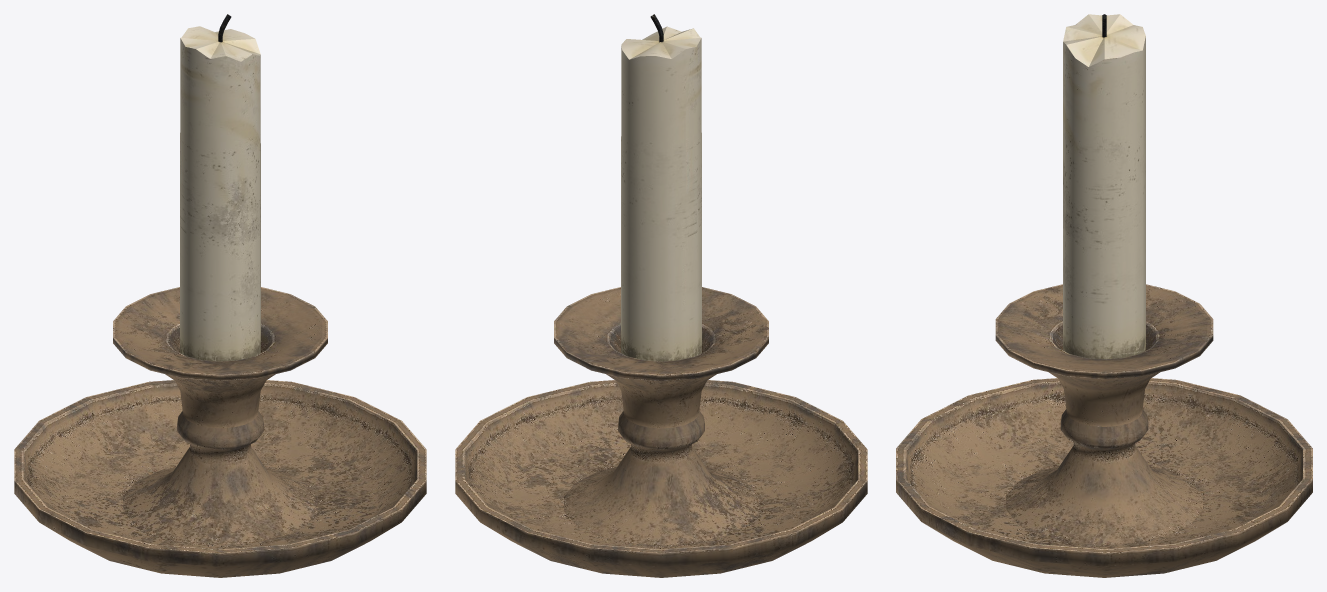
File: Candle.fbx
3 views of the same model, side by side, from view 1: azimuth 30°, elevation 25°; view 2: azimuth 150°, elevation 25°; view 3: azimuth 270°, elevation 25° (orthographic).
Parts seen in each view (by area): view 1: CandleMesh; view 2: CandleMesh; view 3: CandleMesh.
Part boxes in pixels (<box>): CandleMesh: <box>14,14,426,577</box>; CandleMesh: <box>455,14,867,577</box>; CandleMesh: <box>896,14,1312,577</box>.
Size of the model in its own units: 154 by 200 by 152.
1 material, 1 textured.
